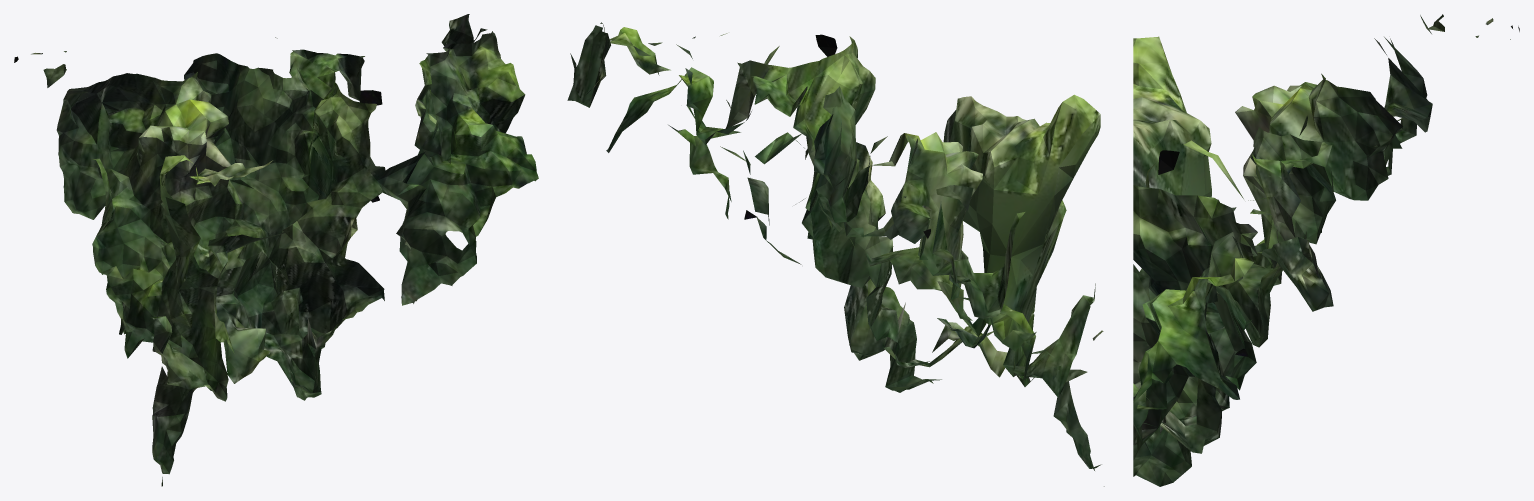
3 renders of one model, left to right at view 1: azimuth 30°, elevation 25°; view 2: azimuth 150°, elevation 25°; view 3: azimuth 270°, elevation 25°, orthographic. The views are drawn at different scales.
Size of the model in its own units: 26.11 by 21.88 by 17.75.
Materials: 4 (4 with a texture image).
